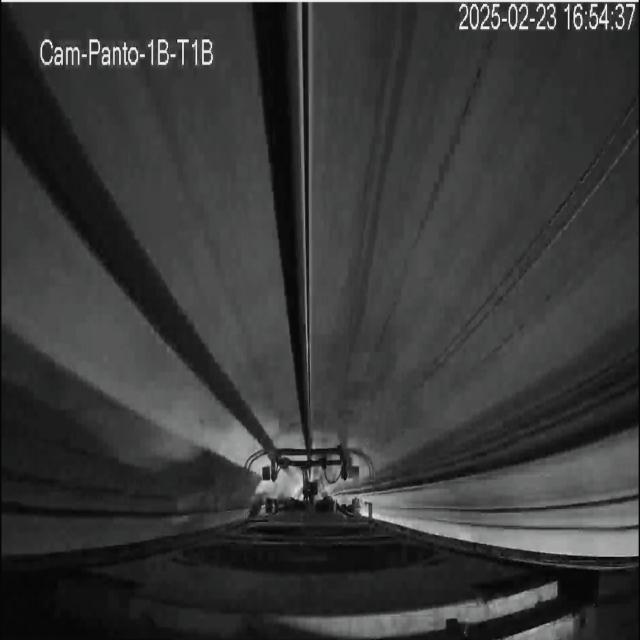Camera Stamp: (34, 27, 220, 70)
Date Stamp: (459, 3, 635, 33)
No - Spark: (245, 443, 373, 518)
